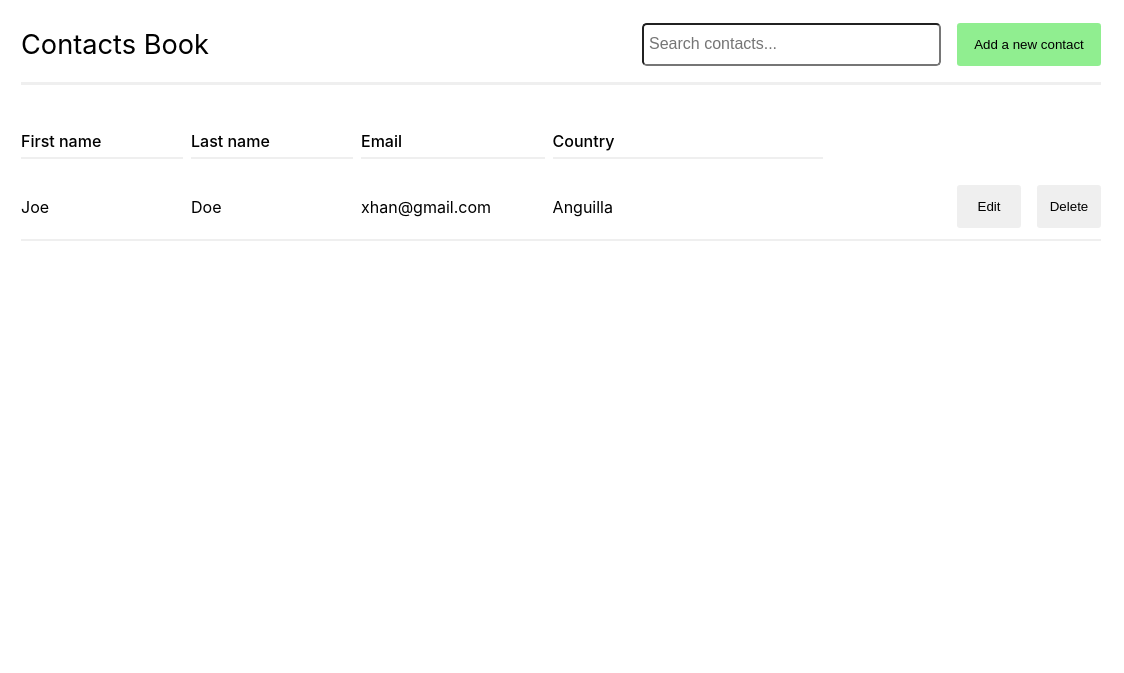
Test: App › shows the AddContactModal when addButton is clicked
Click the button "Add a new contact": (1029, 44) [957,23,1101,66]
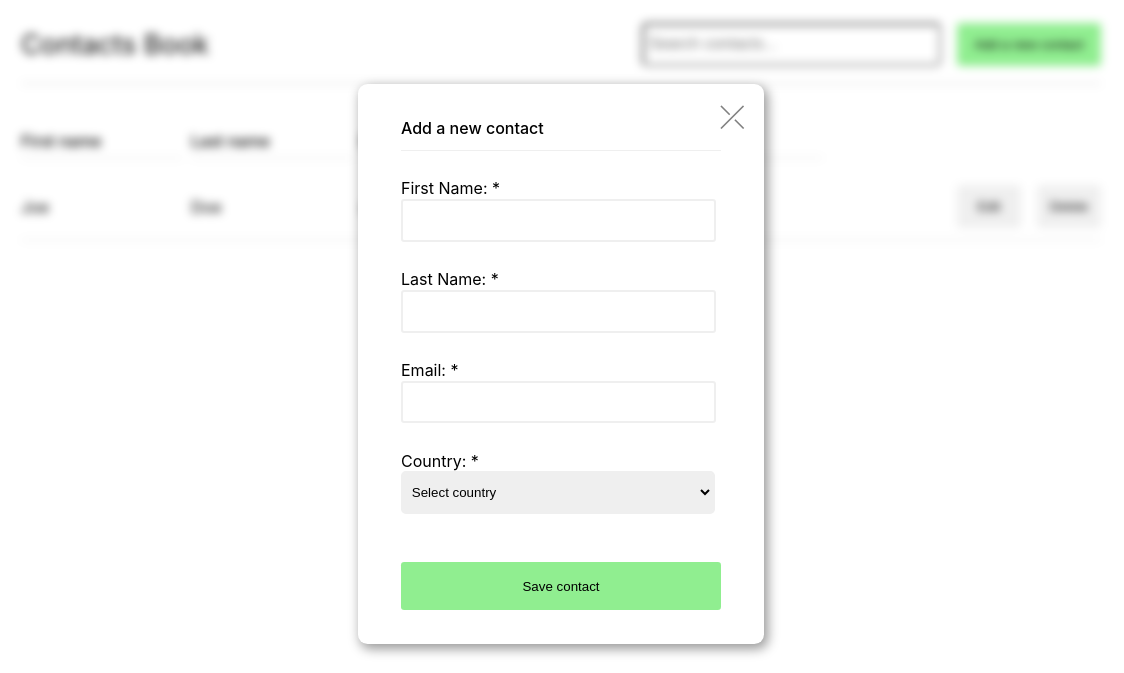
Result: the form with test id "addContactModal" is shown at [358,84,764,644]
